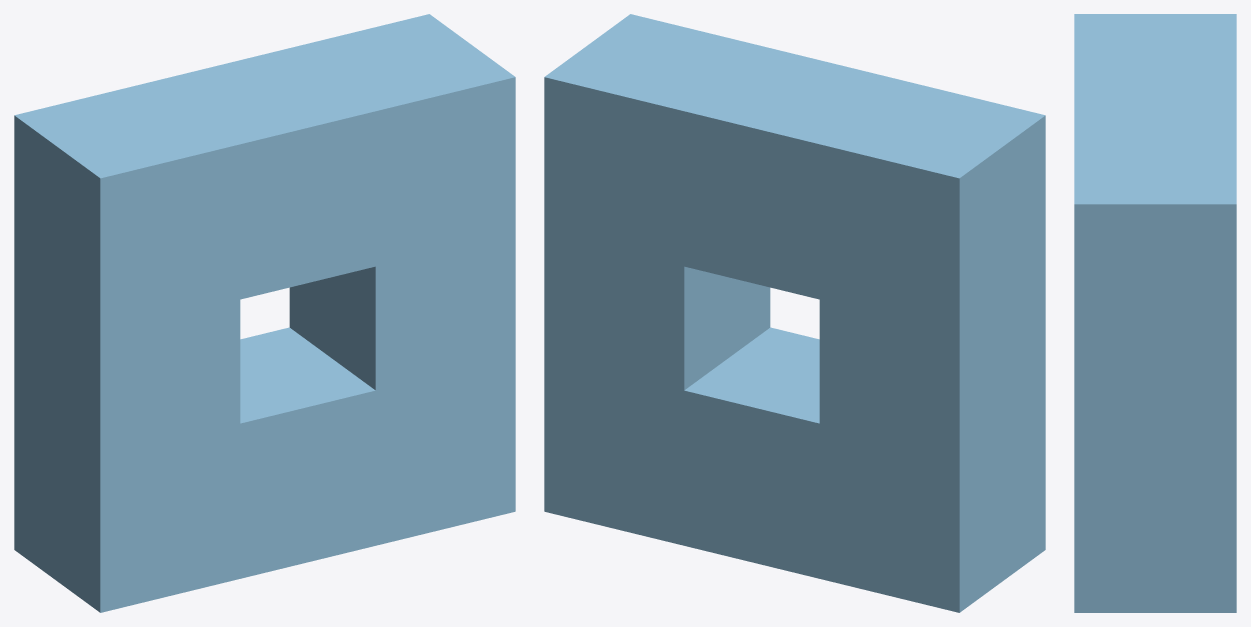
Rendered from factory_rectangular_hole_8mm_subdiv_3x.obj.
3 renders of one model, left to right at view 1: azimuth 30°, elevation 25°; view 2: azimuth 150°, elevation 25°; view 3: azimuth 270°, elevation 25°, orthographic. The views are drawn at different scales.
Visible parts, largest first — view 1: mesh4, mesh2, mesh1, mesh9, mesh6; view 2: mesh5, mesh2, mesh1, mesh9, mesh6; view 3: mesh0, mesh1.
Part boxes in pixels (left/top/right/bottom): mesh4: left=100, top=77, right=515, bottom=612; mesh2: left=14, top=115, right=100, bottom=612; mesh1: left=15, top=14, right=515, bottom=178; mesh9: left=240, top=327, right=375, bottom=423; mesh6: left=289, top=266, right=375, bottom=389; mesh5: left=544, top=77, right=959, bottom=612; mesh2: left=959, top=115, right=1045, bottom=612; mesh1: left=544, top=14, right=1044, bottom=178; mesh9: left=684, top=327, right=819, bottom=423; mesh6: left=684, top=266, right=770, bottom=389; mesh0: left=1074, top=204, right=1236, bottom=612; mesh1: left=1074, top=14, right=1236, bottom=204.
Bounding box in the file's own units: 0.025 × 0.025 × 0.00899.
